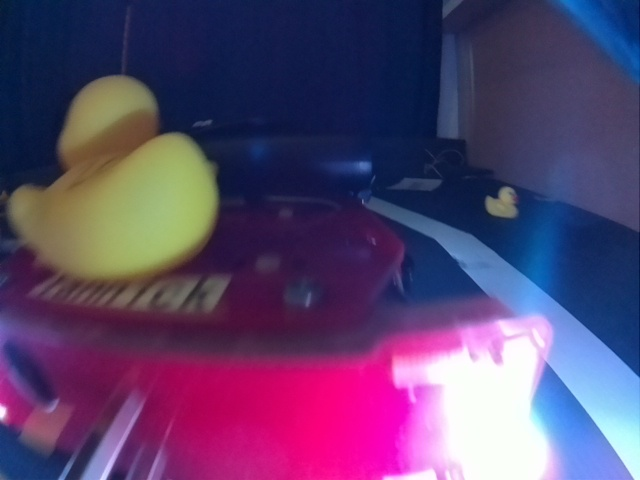Duckie: (11, 75, 219, 278), (485, 187, 518, 218)
Duckiebot: (3, 202, 550, 471)
